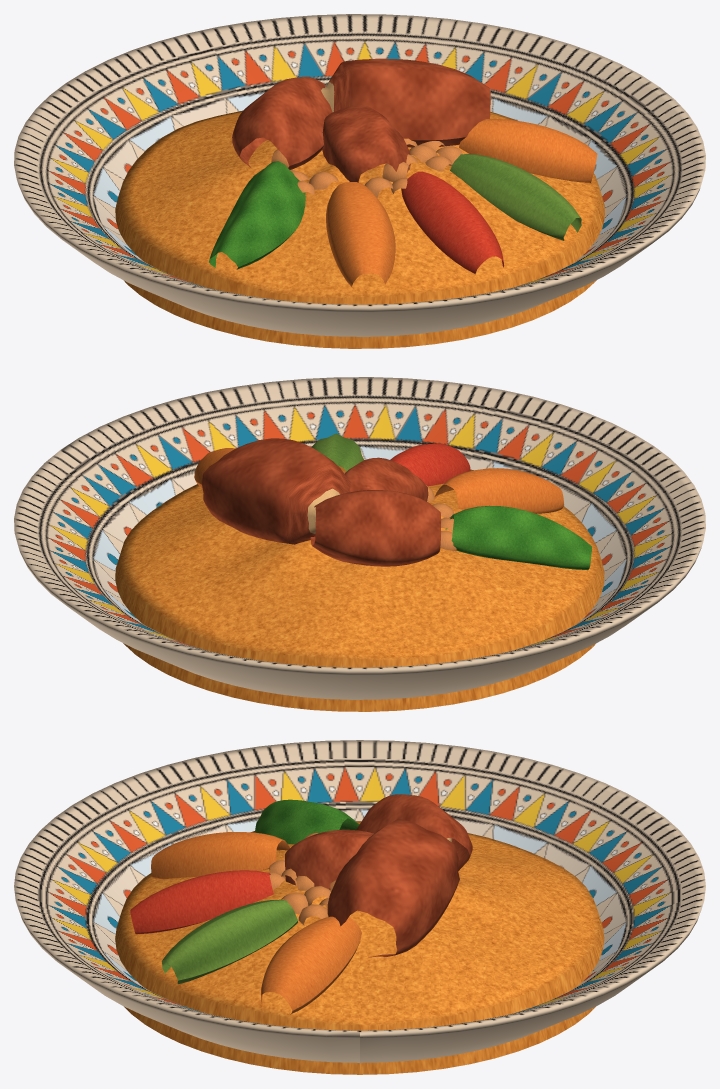
File: Couscous_Plat_080pct.obj
3 views of the same model, one above another, from view 1: azimuth 30°, elevation 25°; view 2: azimuth 150°, elevation 25°; view 3: azimuth 270°, elevation 25° (orthographic).
Parts seen in each view (by area): view 1: 00_Plate_Tebsi_Ceramic, 01_Couscous_Semolina_Mound, 02_Meat_Lamb_Shank_Main, 03_Meat_Braised_Left, 06_Veg_Green_Pepper_Felfel, 10_Veg_Carrot_Right, 08_Veg_Pumpkin_Red_Front, 09_Veg_Zucchini_FrontRight, 07_Veg_Carrot_FrontLeft, 04_Meat_Braised_Front, 05_Chickpeas_Cluster; view 2: 00_Plate_Tebsi_Ceramic, 01_Couscous_Semolina_Mound, 02_Meat_Lamb_Shank_Main, 03_Meat_Braised_Left, 06_Veg_Green_Pepper_Felfel, 07_Veg_Carrot_FrontLeft, 04_Meat_Braised_Front, 08_Veg_Pumpkin_Red_Front, 09_Veg_Zucchini_FrontRight, 05_Chickpeas_Cluster; view 3: 00_Plate_Tebsi_Ceramic, 01_Couscous_Semolina_Mound, 02_Meat_Lamb_Shank_Main, 09_Veg_Zucchini_FrontRight, 10_Veg_Carrot_Right, 08_Veg_Pumpkin_Red_Front, 07_Veg_Carrot_FrontLeft, 04_Meat_Braised_Front, 03_Meat_Braised_Left, 06_Veg_Green_Pepper_Felfel, 05_Chickpeas_Cluster.
Boxes of the visible parts, left/top/right/bottom form: 00_Plate_Tebsi_Ceramic: left=14, top=14, right=705, bottom=336; 01_Couscous_Semolina_Mound: left=115, top=110, right=604, bottom=348; 02_Meat_Lamb_Shank_Main: left=321, top=58, right=490, bottom=147; 03_Meat_Braised_Left: left=232, top=76, right=332, bottom=169; 06_Veg_Green_Pepper_Felfel: left=209, top=161, right=305, bottom=269; 10_Veg_Carrot_Right: left=459, top=119, right=597, bottom=182; 08_Veg_Pumpkin_Red_Front: left=401, top=171, right=503, bottom=274; 09_Veg_Zucchini_FrontRight: left=450, top=154, right=581, bottom=240; 07_Veg_Carrot_FrontLeft: left=326, top=182, right=395, bottom=288; 04_Meat_Braised_Front: left=322, top=105, right=410, bottom=182; 05_Chickpeas_Cluster: left=262, top=138, right=462, bottom=197; 00_Plate_Tebsi_Ceramic: left=14, top=377, right=705, bottom=699; 01_Couscous_Semolina_Mound: left=115, top=460, right=604, bottom=711; 02_Meat_Lamb_Shank_Main: left=202, top=438, right=351, bottom=544; 03_Meat_Braised_Left: left=310, top=490, right=440, bottom=566; 06_Veg_Green_Pepper_Felfel: left=445, top=505, right=591, bottom=570; 07_Veg_Carrot_FrontLeft: left=434, top=468, right=563, bottom=513; 04_Meat_Braised_Front: left=344, top=457, right=428, bottom=501; 08_Veg_Pumpkin_Red_Front: left=390, top=443, right=470, bottom=486; 09_Veg_Zucchini_FrontRight: left=311, top=433, right=364, bottom=471; 05_Chickpeas_Cluster: left=343, top=472, right=456, bottom=550; 00_Plate_Tebsi_Ceramic: left=14, top=740, right=705, bottom=1062; 01_Couscous_Semolina_Mound: left=115, top=821, right=604, bottom=1074; 02_Meat_Lamb_Shank_Main: left=327, top=818, right=459, bottom=957; 09_Veg_Zucchini_FrontRight: left=161, top=899, right=298, bottom=984; 10_Veg_Carrot_Right: left=261, top=916, right=361, bottom=1014; 08_Veg_Pumpkin_Red_Front: left=130, top=870, right=273, bottom=934; 07_Veg_Carrot_FrontLeft: left=151, top=832, right=289, bottom=878; 04_Meat_Braised_Front: left=285, top=829, right=373, bottom=889; 03_Meat_Braised_Left: left=356, top=794, right=472, bottom=871; 06_Veg_Green_Pepper_Felfel: left=255, top=799, right=359, bottom=844; 05_Chickpeas_Cluster: left=268, top=833, right=335, bottom=925.
Size of the model in its own units: 0.32 by 0.0899 by 0.32.
1 material, 1 textured.
